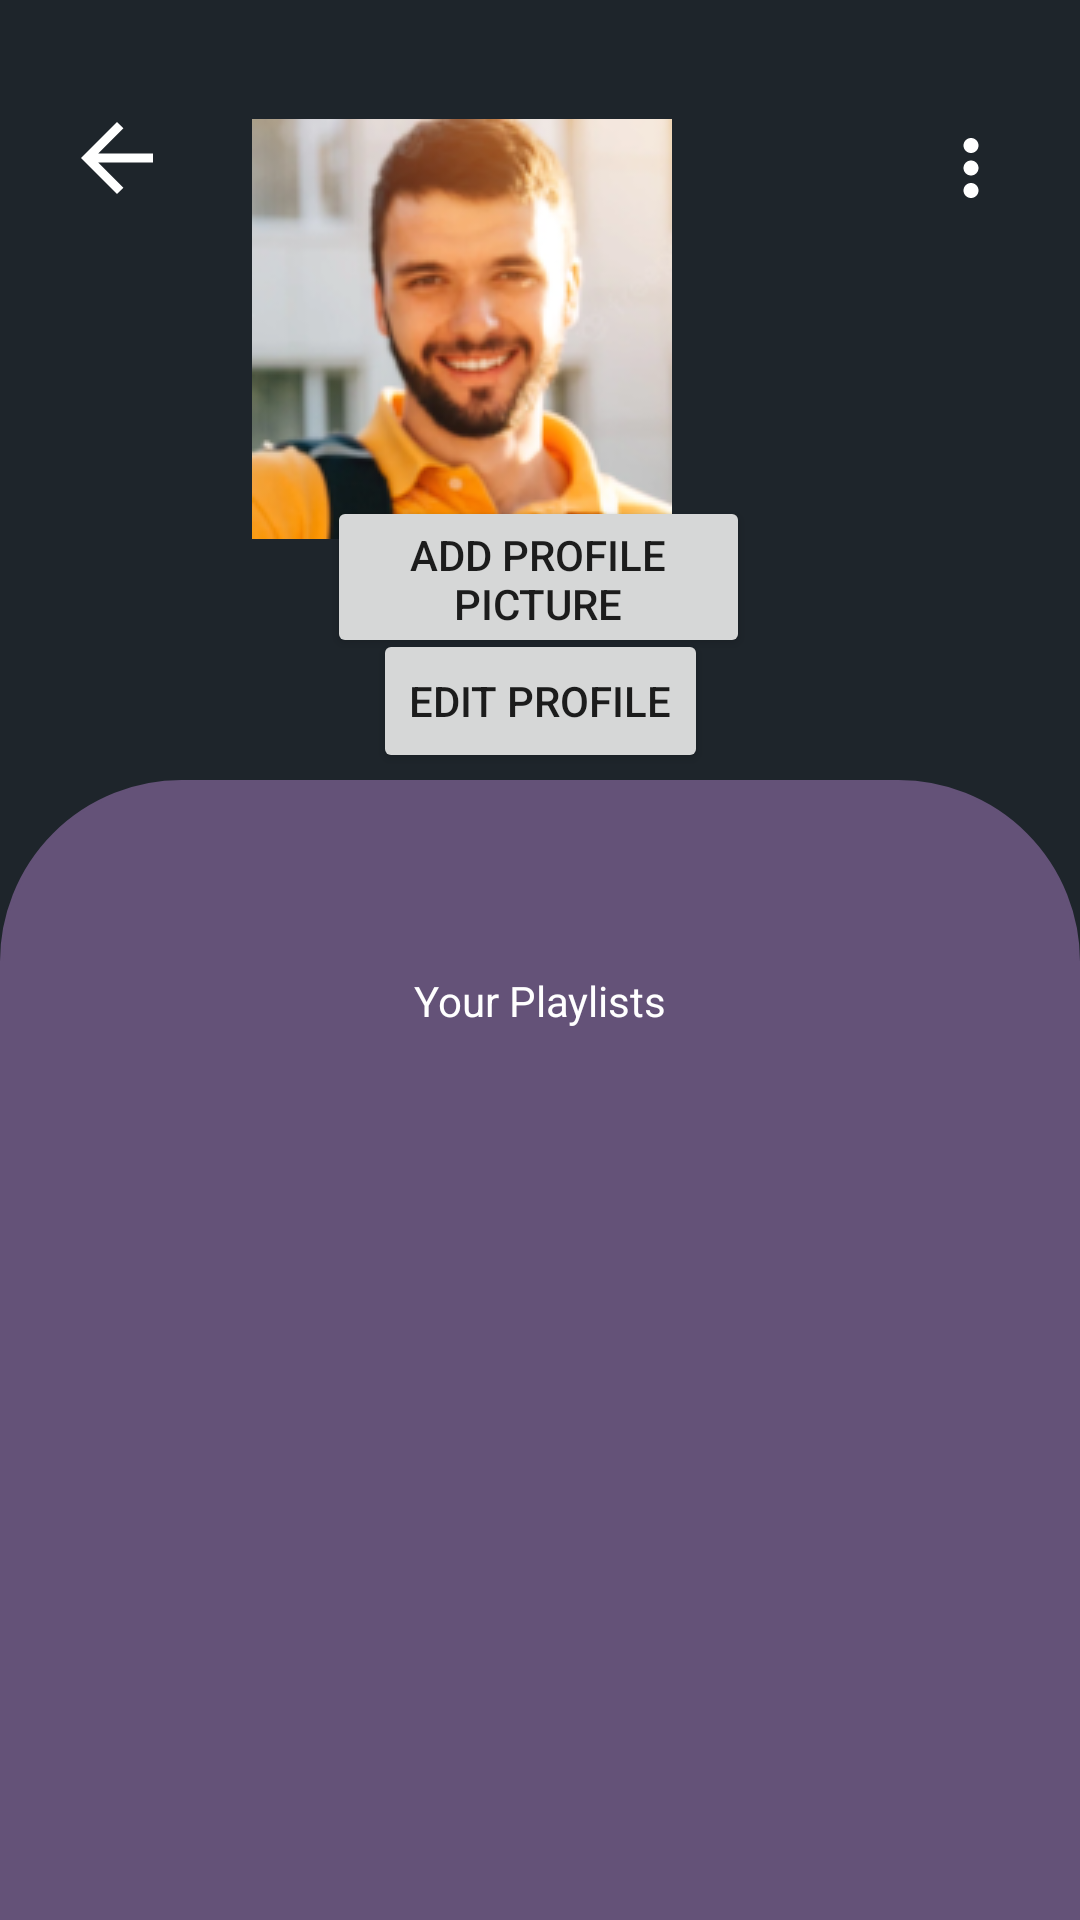

Screen size 1080x1920. Icon name, then its center in pixels as [x,y]:
left arrow: [117,158]
more: [971,168]
